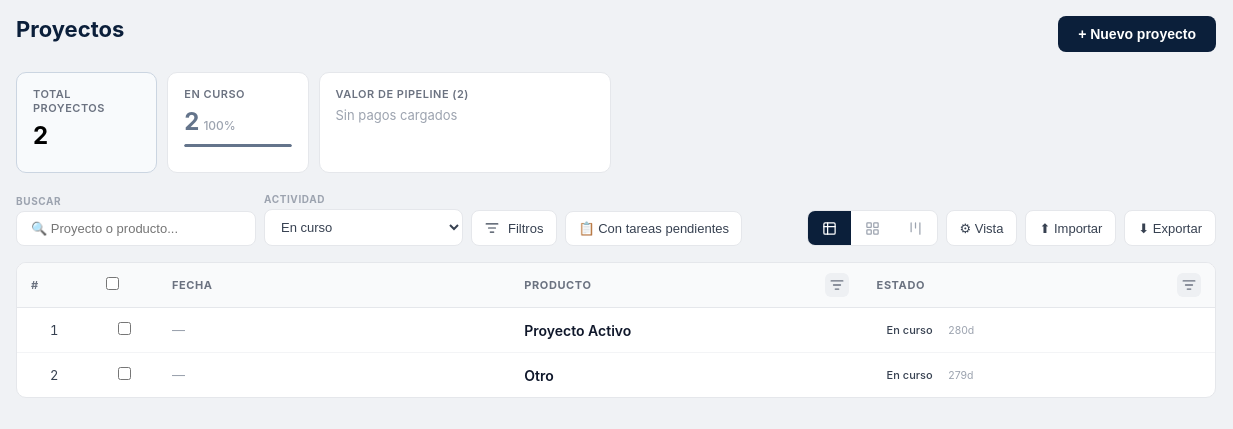
Test: Negotiations › el buscador filtra por nombre de producto/proyecto
The image size is (1233, 429).
Check: the text "Proyecto Activo" is shown, box [510,308,863,352]
Type "Otro" into the field with placeholder "🔍 Proyecto o producto...".
click(136, 228); type("Otro")  # box [16,211,256,246]
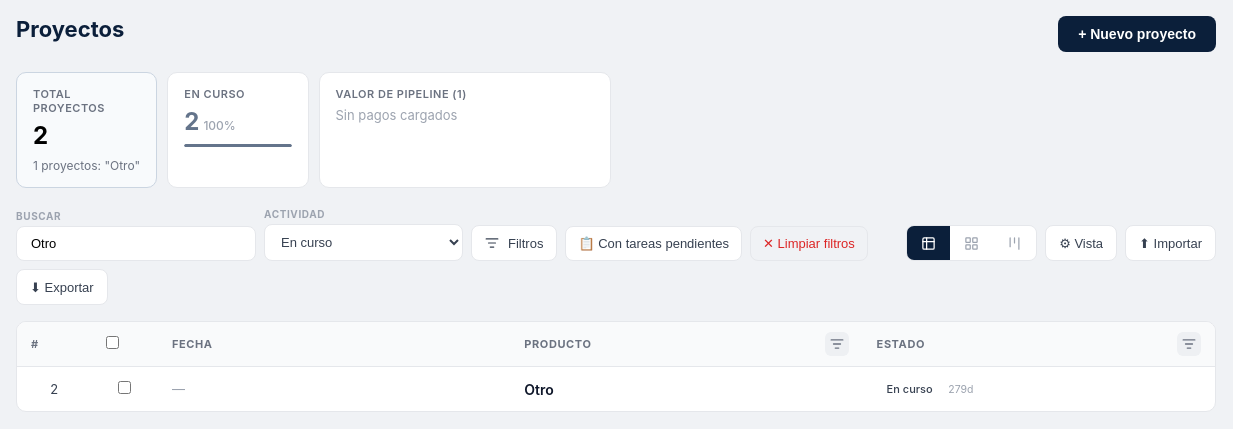
Check: the text "Otro" is shown, box [510,366,863,411]
Check: the text "Proyecto Activo" is gone
